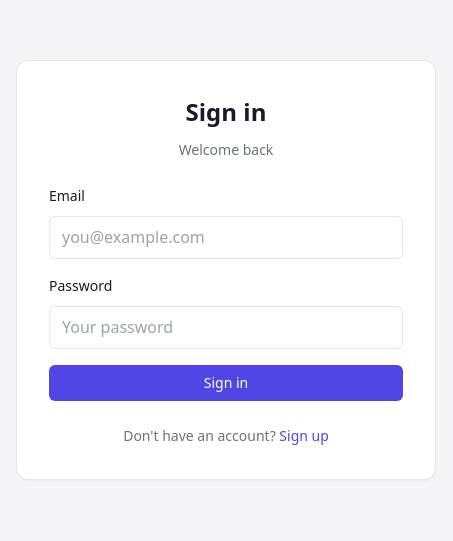
SignIn › shows network error on fetch failure
In the field labelled "Email": (226, 238) x1=49 y1=216 x2=403 y2=259, type "a@b.com"
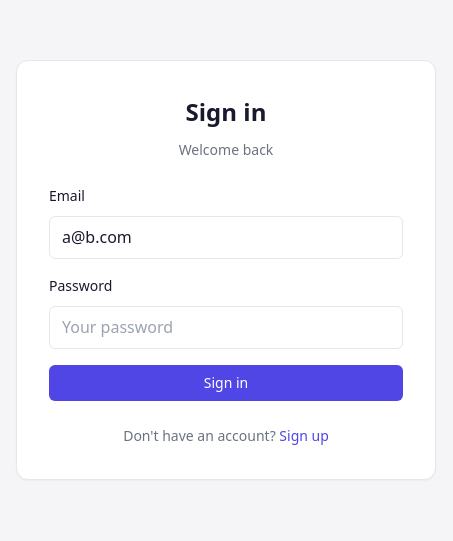
In the password field labelled "Password": (226, 328) x1=49 y1=306 x2=403 y2=349, type "password"
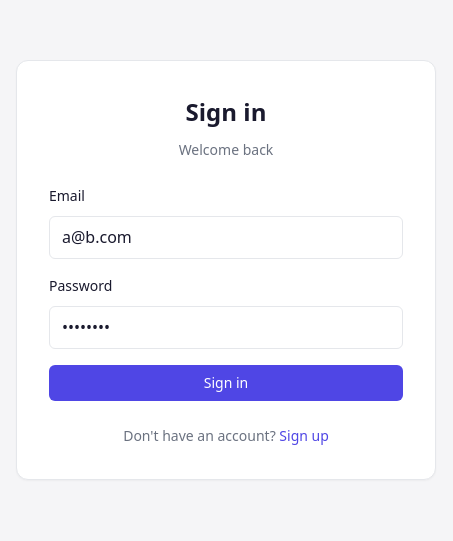
Click the button "Sign in": (226, 383) x1=49 y1=365 x2=403 y2=401
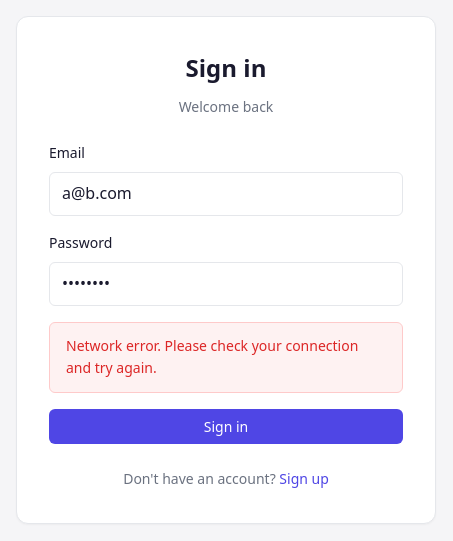
Check: the message shows "Network error", box x1=66 y1=336 x2=358 y2=377
